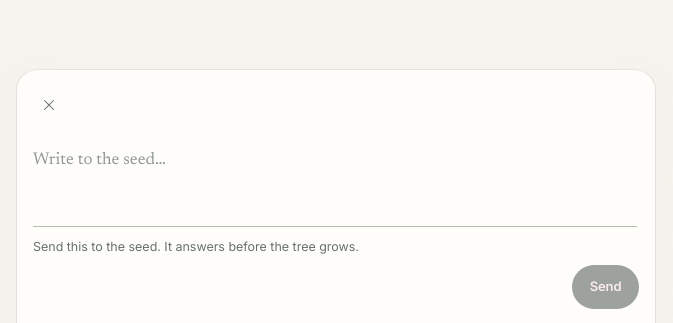
Test: voice capture › asks before leaving with the tree
The width and height of the screenshot is (673, 323).
Step 1. Type "I felt sad and still grateful for the quiet in the kitchen." into the text box named "Journal entry" → coordinates (335, 188), box [33, 148, 637, 227]
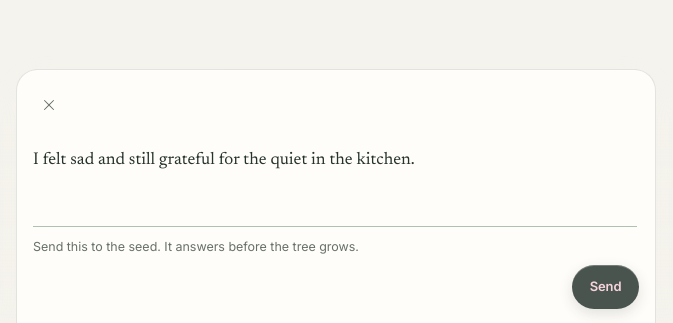
Step 2. Click the button "Send" → coordinates (606, 287), box [572, 265, 639, 309]
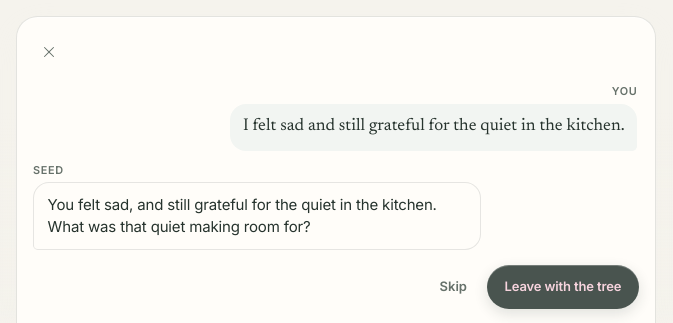
Now the text "what was that quiet making room for" is shown, box [48, 196, 437, 236]
